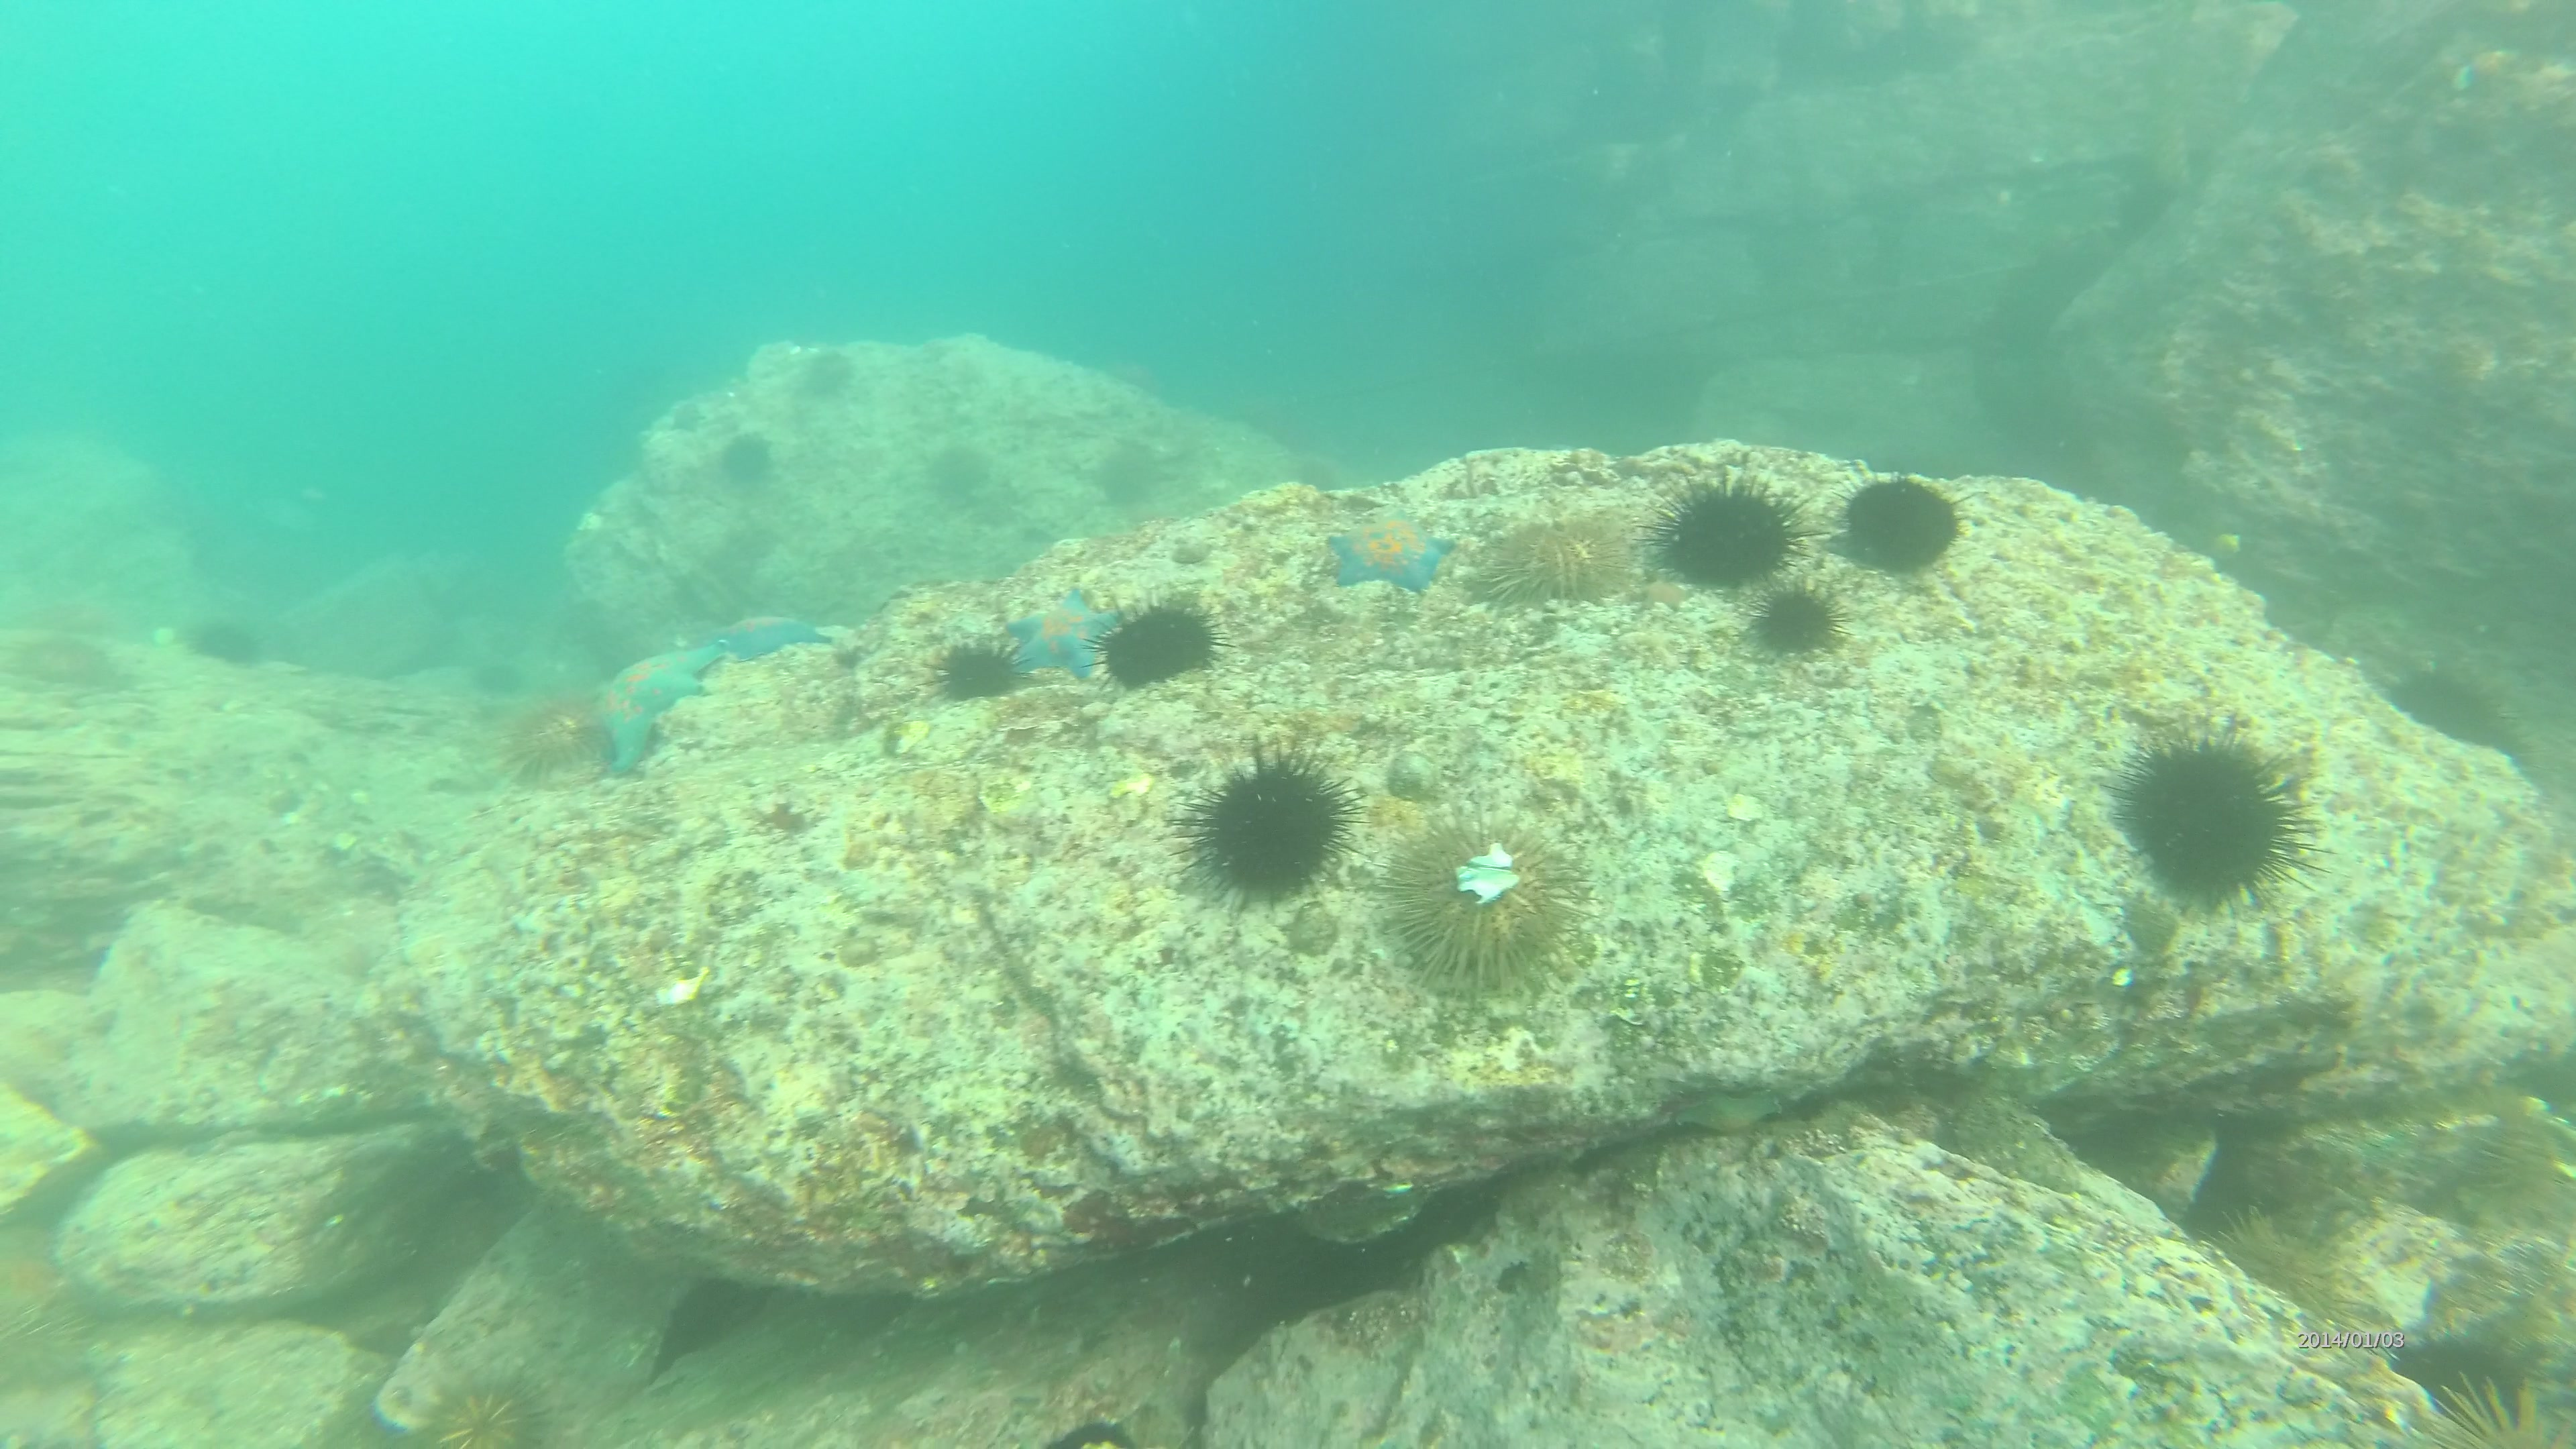echinus: (2100, 718, 2327, 911), (1385, 812, 1603, 984), (1185, 741, 1361, 897), (1640, 476, 1817, 589), (2199, 1200, 2355, 1325), (1463, 517, 1631, 609), (1836, 456, 1960, 577), (1104, 600, 1230, 690), (0, 1274, 97, 1376), (414, 1371, 536, 1449), (490, 695, 600, 778), (1746, 584, 1852, 658), (936, 635, 1030, 704), (936, 444, 1001, 494), (722, 432, 777, 483), (807, 345, 853, 396)
starfish: (580, 649, 724, 771), (1315, 504, 1460, 602), (706, 609, 833, 660)
